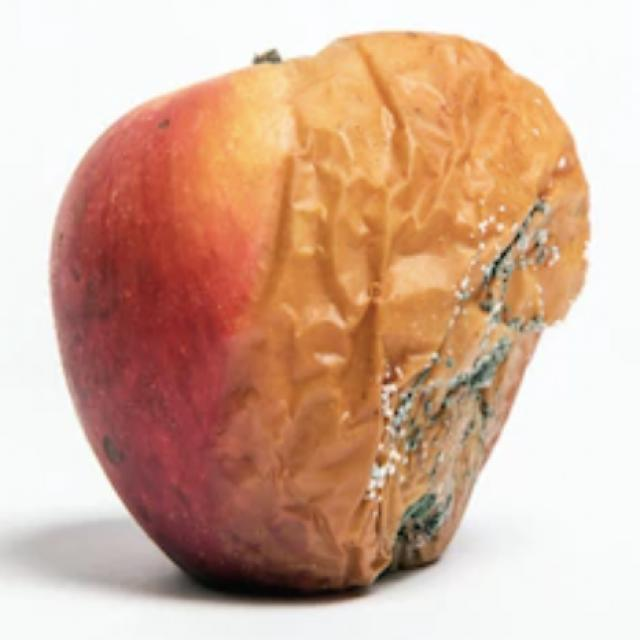rotten_apple: (50, 33, 593, 602)
